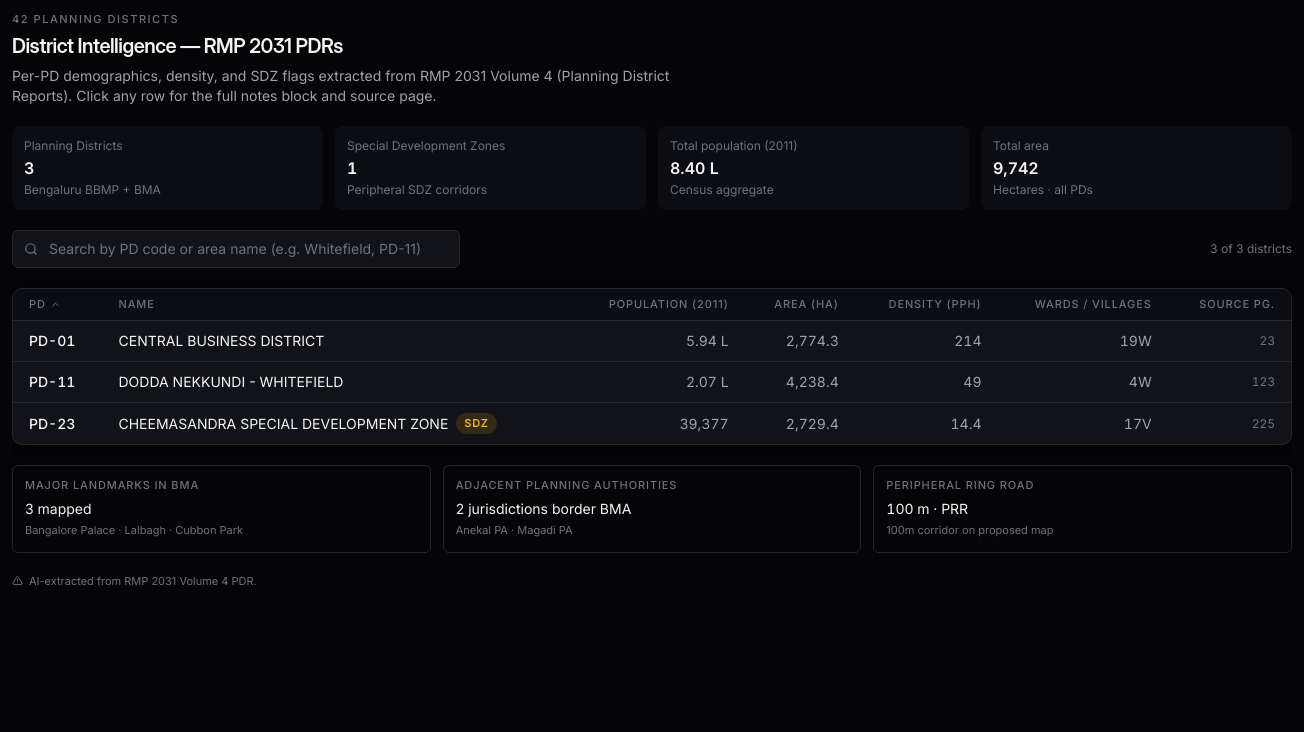
Scenario: DistrictIntelligencePanel › filters by search term across pd_code and pd_name
Type "whitefield" into the field with placeholder "Search by PD code or area name (e.g. Whitefield, PD-11)" at (236, 249), box [12,230,460,268]
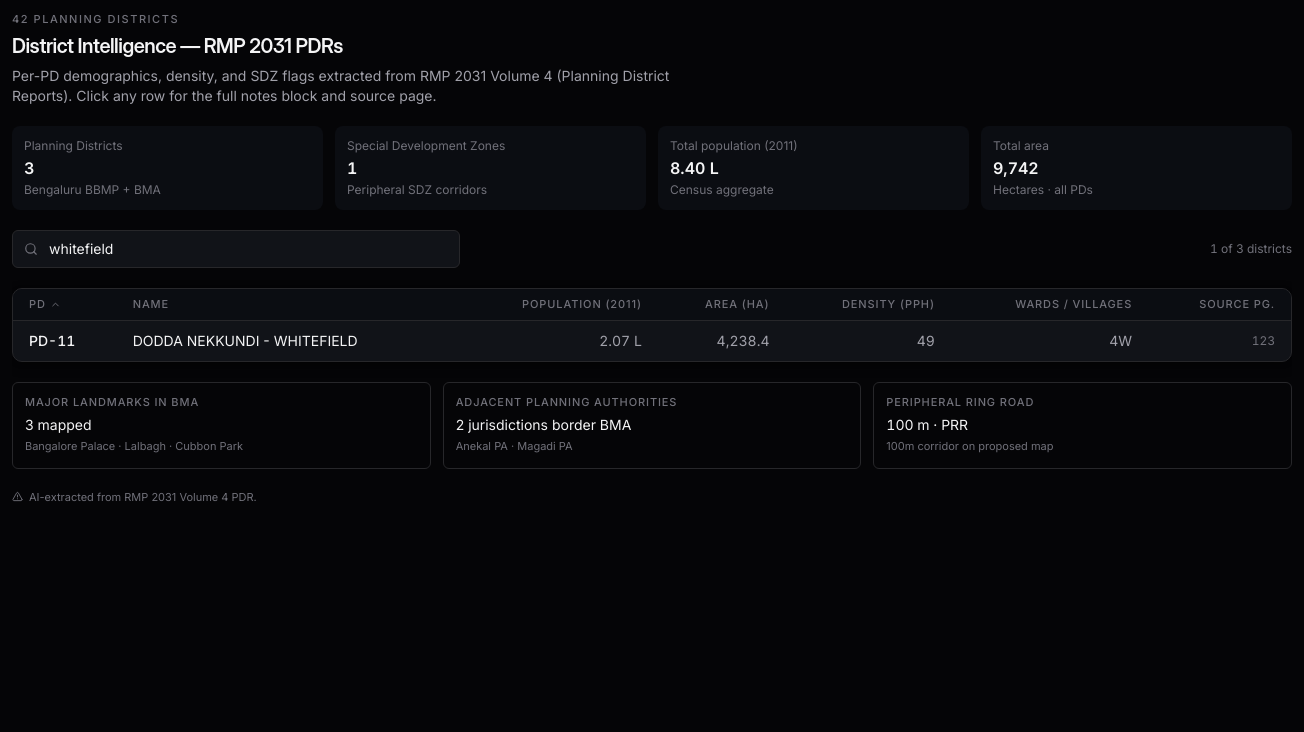
Expected: the text "DODDA NEKKUNDI - WHITEFIELD" is shown, [133,331,358,351]
Expected: the text "CENTRAL BUSINESS DISTRICT" is gone
Expected: the text "CHEEMASANDRA SPECIAL DEVELOPMENT ZONE" is gone
